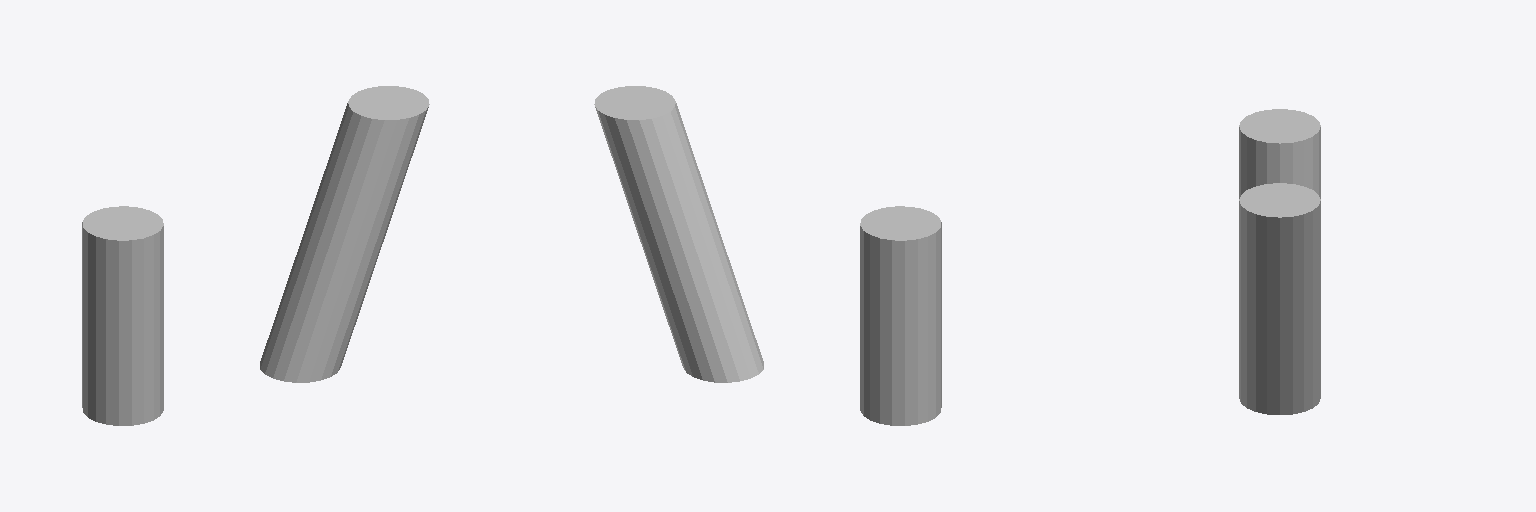
File: CustomizedOffsetTopCylinder.obj
3 views of the same model, side by side, from view 1: azimuth 30°, elevation 25°; view 2: azimuth 150°, elevation 25°; view 3: azimuth 270°, elevation 25° (orthographic).
Parts seen in each view (by area): view 1: obj_[number redacted], obj_[number redacted]; view 2: obj_[number redacted], obj_[number redacted]; view 3: obj_[number redacted], obj_[number redacted].
Boxes of the visible parts, <box> form: obj_[number redacted]: <box>260,86,429,382</box>; obj_[number redacted]: <box>82,206,163,425</box>; obj_[number redacted]: <box>594,86,763,382</box>; obj_[number redacted]: <box>860,206,941,425</box>; obj_[number redacted]: <box>1239,183,1320,414</box>; obj_[number redacted]: <box>1239,109,1320,198</box>.
Size of the model in its own units: 19 by 13 by 4.